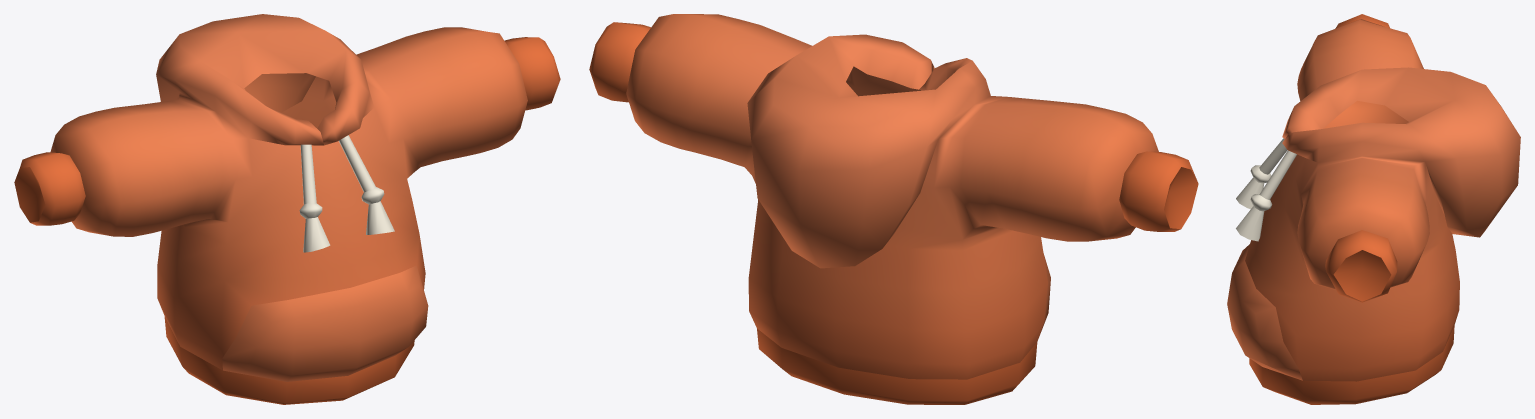
File: Top_24.fbx
3 renders of one model, left to right at view 1: azimuth 30°, elevation 25°; view 2: azimuth 150°, elevation 25°; view 3: azimuth 270°, elevation 25°, orthographic. The views are drawn at different scales.
Visible parts, largest first — view 1: Top_24; view 2: Top_24; view 3: Top_24.
Part boxes in pixels (x1,y1,x2,y2): Top_24: [14, 14, 560, 404]; Top_24: [589, 14, 1198, 404]; Top_24: [1227, 14, 1520, 404].
Size of the model in its own units: 95.72 by 52.6 by 50.88.
